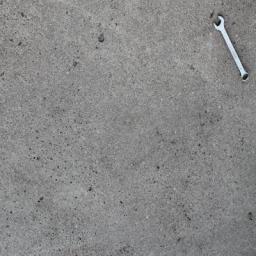FOD: (212, 14, 252, 83)
